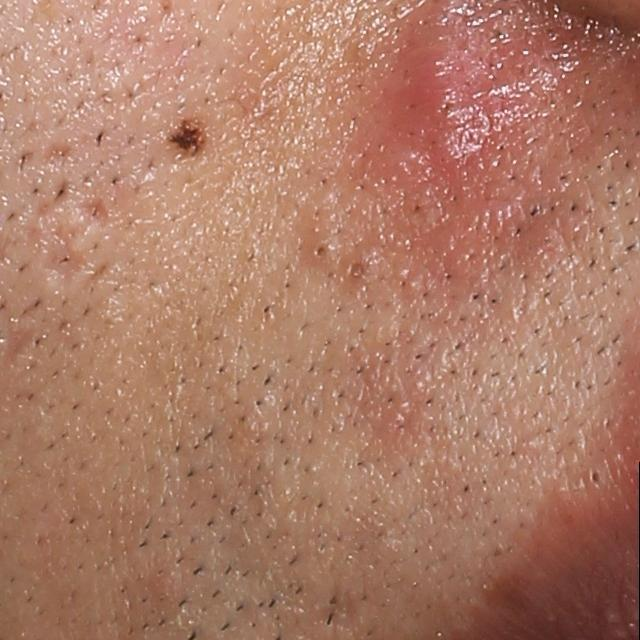atrophic_scar: (40, 224, 86, 289), (1, 322, 42, 370), (37, 140, 73, 170), (80, 191, 110, 223)
comedo: (334, 249, 388, 292), (302, 235, 340, 272), (583, 461, 610, 492)
nevus: (164, 120, 210, 160)
